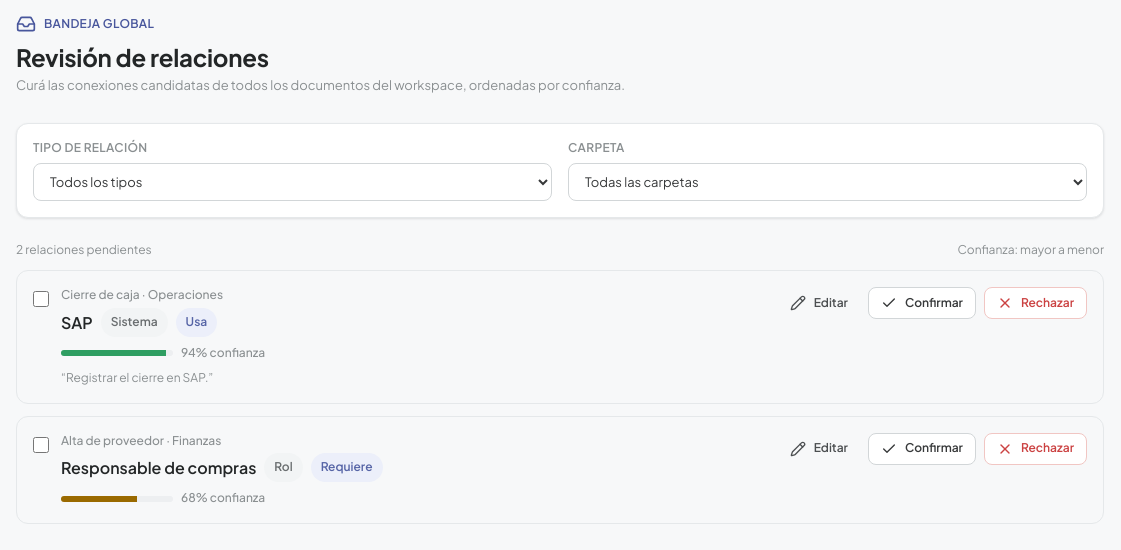
Test: RelationsInboxPage › confirms selected candidates in bulk and removes them from the inbox
Expected: the text "SAP" is shown, [61,311,93,335]
Click the checkbox named "Seleccionar relación con SAP". click: click(41, 299)
box: [33,291,49,307]
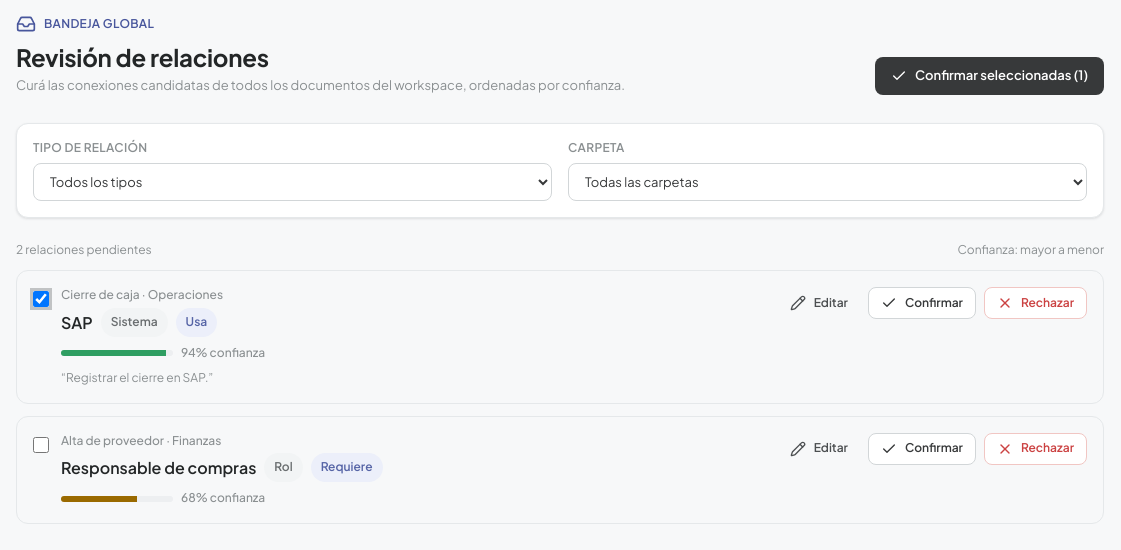
Click the checkbox named "Seleccionar relación con Responsable de compras". click: click(41, 445)
box: [33,437,49,453]
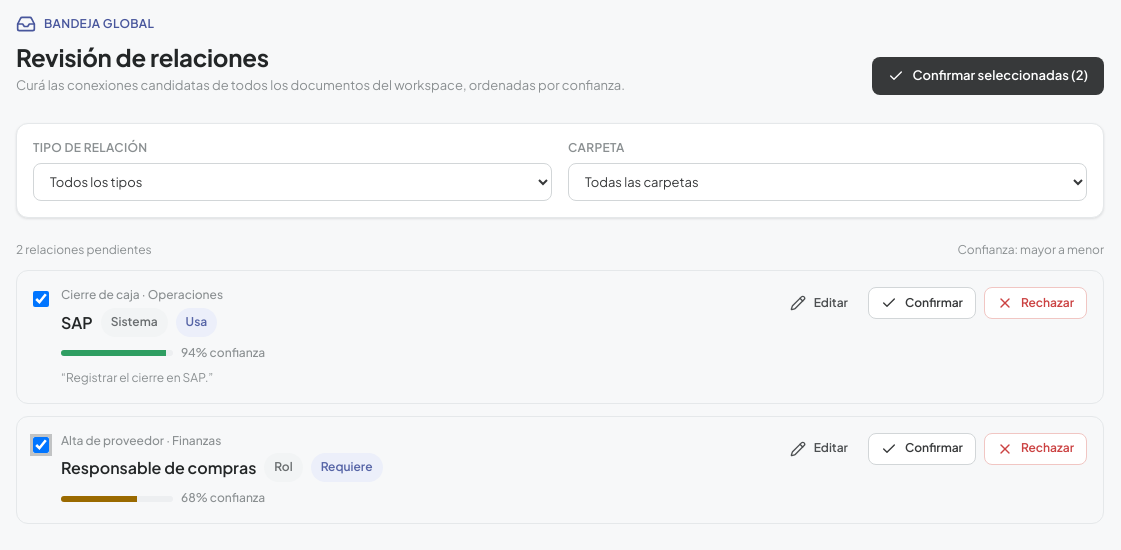
Click the button "Confirmar seleccionadas (2)". click: click(988, 76)
box: [872,57,1104,95]
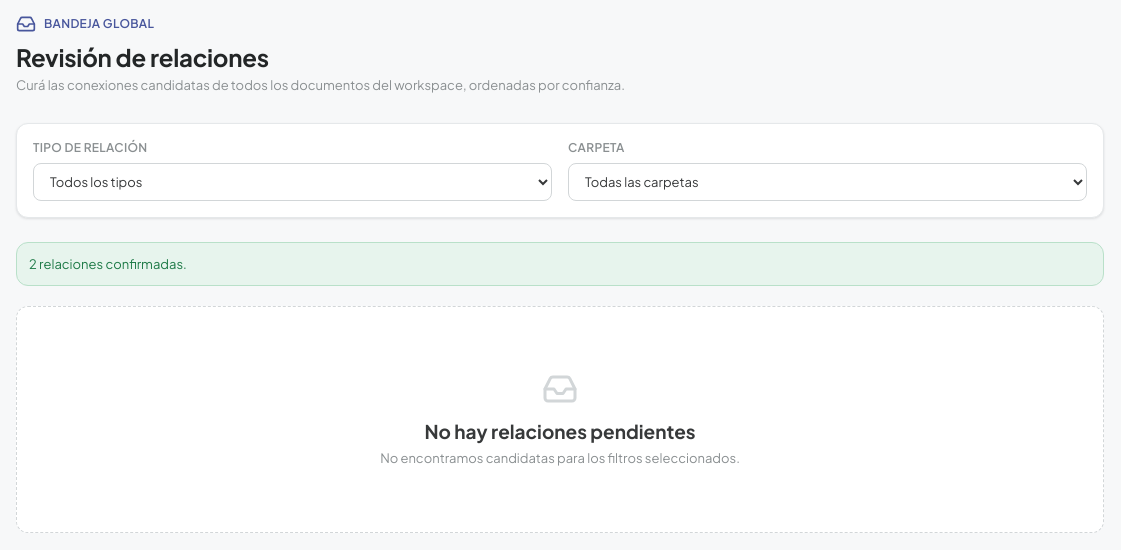
Expected: the text "SAP" is gone
Expected: the heading "No hay relaciones pendientes" is shown, [424,420,696,444]
